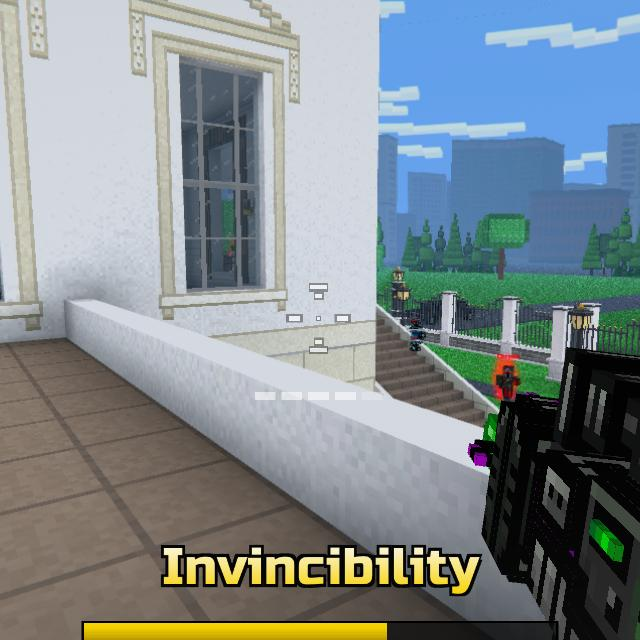Enemy: (495, 365, 521, 401)
